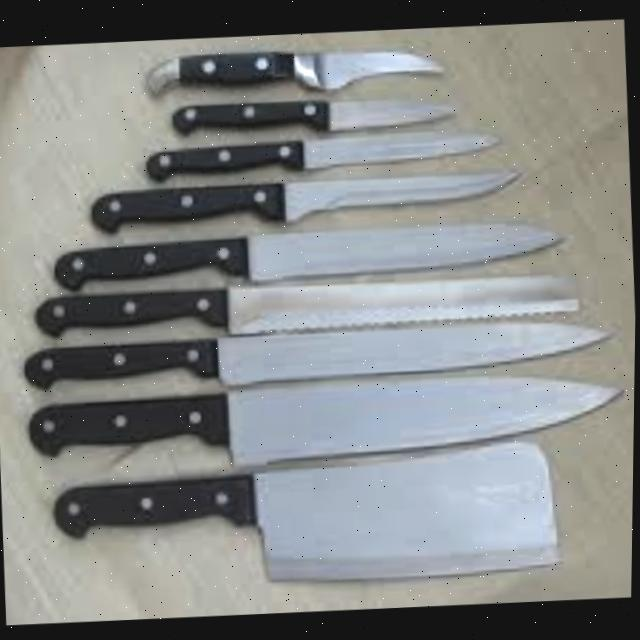knife: (51, 434, 563, 594), (27, 364, 628, 473), (21, 311, 619, 395), (34, 265, 581, 343), (51, 212, 570, 292), (88, 165, 526, 234), (143, 123, 502, 183), (141, 37, 444, 99), (170, 89, 457, 139)
